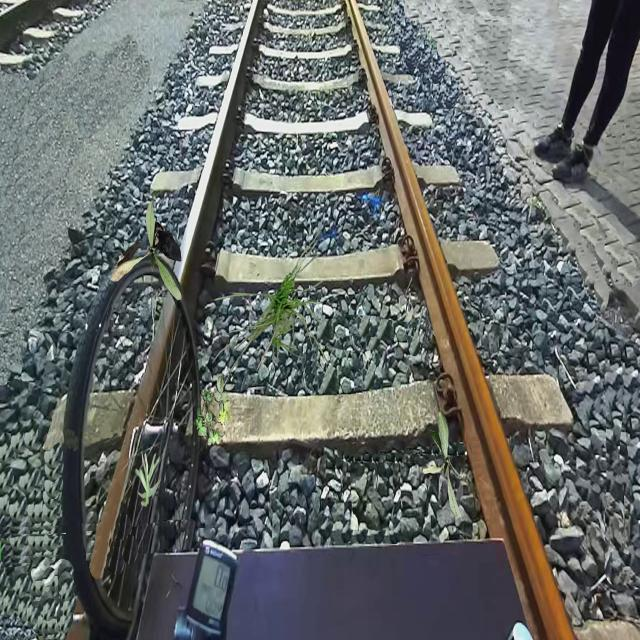Plant: (212, 231, 330, 394), (110, 201, 182, 300), (423, 410, 463, 520), (195, 376, 232, 449), (135, 451, 162, 508)
